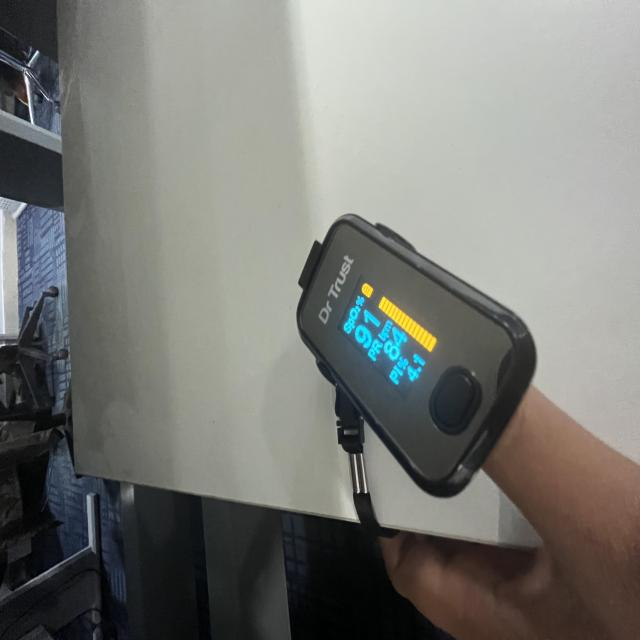bp: (296, 216, 538, 502)
